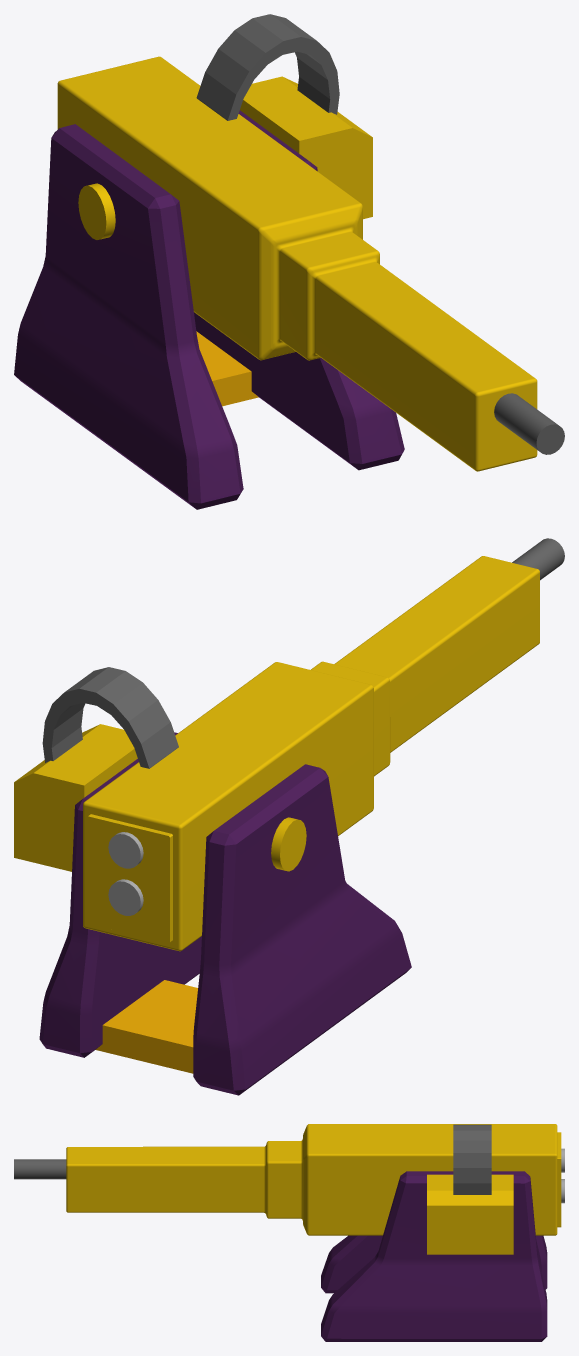
The model's file is Cannon2.fbx.
3 views of the same model, one above another, from view 1: azimuth 30°, elevation 25°; view 2: azimuth 150°, elevation 25°; view 3: azimuth 270°, elevation 25° (orthographic). The views are drawn at different scales.
Visible parts, largest first — view 1: pCube4, polySurface2, polySurface3, pCube6, pCylinder14, pCylinder13, pCube5, pCylinder17; view 2: pCube4, polySurface2, polySurface3, pCube6, pCylinder14, pCube5, pCylinder17, pCylinder13, pCylinder15, pCylinder16; view 3: pCube4, polySurface3, pCube6, pCylinder14, polySurface2, pCylinder13.
Part boxes in pixels (x1,y1,x2,y2): pCube4: (57, 56, 537, 471); polySurface2: (14, 124, 243, 509); polySurface3: (194, 110, 404, 470); pCube6: (240, 76, 372, 219); pCylinder14: (196, 14, 339, 120); pCylinder13: (494, 393, 564, 454); pCube5: (196, 331, 258, 406); pCylinder17: (78, 183, 115, 239); pCube4: (83, 556, 539, 951); polySurface2: (193, 764, 411, 1095); polySurface3: (39, 732, 201, 1057); pCube6: (14, 724, 137, 871); pCylinder14: (42, 667, 178, 768); pCube5: (95, 980, 197, 1073); pCylinder17: (271, 817, 306, 871); pCylinder13: (512, 538, 564, 580); pCylinder15: (108, 832, 143, 868); pCylinder16: (108, 879, 143, 915); pCube4: (66, 1124, 561, 1235); polySurface3: (321, 1171, 547, 1341); pCube6: (427, 1174, 513, 1254); pCylinder14: (453, 1124, 491, 1194); polySurface2: (321, 1235, 547, 1293); pCylinder13: (14, 1159, 66, 1179).
Size of the model in its own units: 0.3629 by 0.4518 by 1.06.
